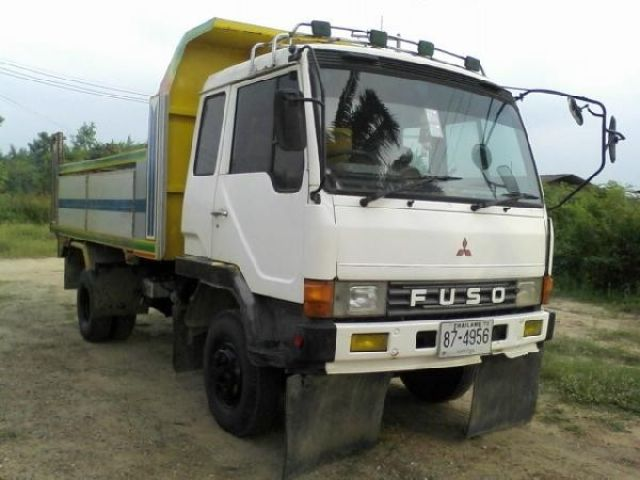truck: (75, 26, 558, 440)
